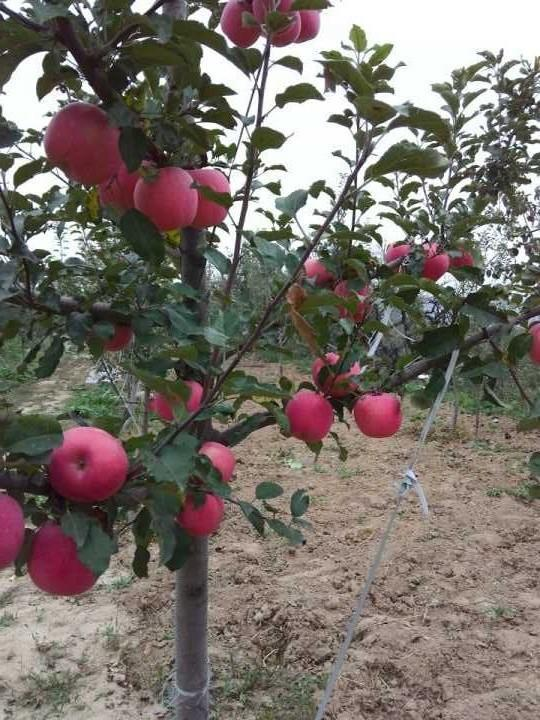apple: (42, 101, 119, 183), (49, 425, 127, 503), (25, 519, 103, 597), (130, 166, 197, 232), (188, 169, 230, 230), (286, 390, 333, 439), (353, 392, 402, 438)
